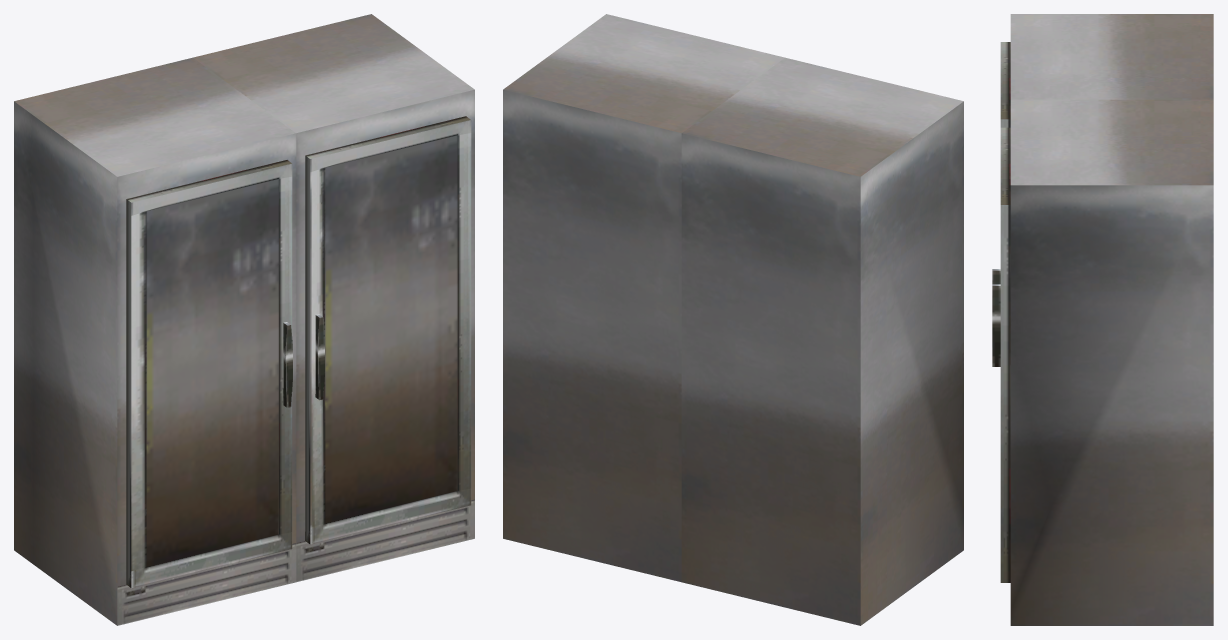
Rendered from freezer.fbx.
3 renders of one model, left to right at view 1: azimuth 30°, elevation 25°; view 2: azimuth 150°, elevation 25°; view 3: azimuth 270°, elevation 25°, orthographic.
Visible parts, largest first — view 1: mesh_0; view 2: mesh_0; view 3: mesh_0.
Boxes of the visible parts, <box> form: mesh_0: <box>14,14,474,625</box>; mesh_0: <box>503,14,963,625</box>; mesh_0: <box>992,14,1213,625</box>.
Bounding box in the file's own units: 200 × 240 × 109.
Materials: 1 (1 with a texture image).
